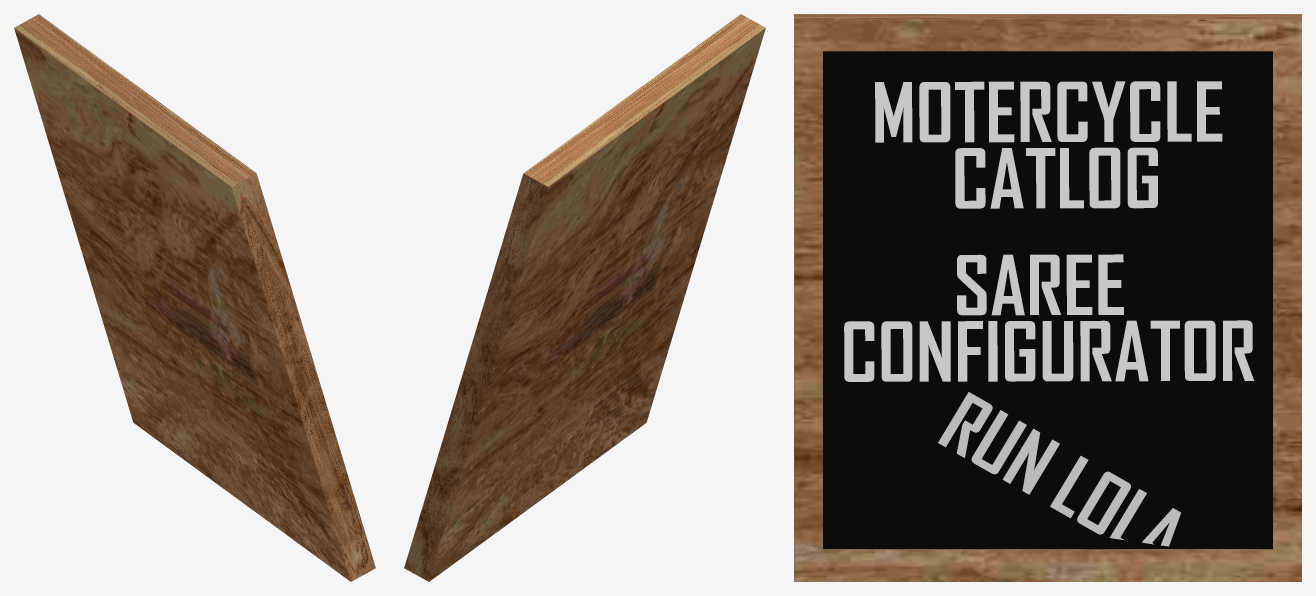
The model's file is sampleideas.glb.
3 renders of one model, left to right at view 1: azimuth 30°, elevation 25°; view 2: azimuth 150°, elevation 25°; view 3: azimuth 270°, elevation 25°, orthographic. The views are drawn at different scales.
Parts seen in each view (by area): view 1: noricebord; view 2: noricebord; view 3: moter, noricebord, run, sareebord, saree, motercycle, runlola.
Part boxes in pixels (bbox=[...]): noricebord: bbox=[14, 14, 375, 581]; noricebord: bbox=[404, 14, 765, 581]; moter: bbox=[823, 51, 1272, 233]; noricebord: bbox=[794, 14, 1301, 581]; run: bbox=[823, 393, 1272, 548]; sareebord: bbox=[823, 234, 1272, 393]; saree: bbox=[844, 254, 1254, 381]; motercycle: bbox=[875, 81, 1222, 208]; runlola: bbox=[938, 392, 1180, 546].
Bounding box in the file's own units: 26.38 × 75.4 × 68.88.
Materials: 7 (1 with a texture image).
